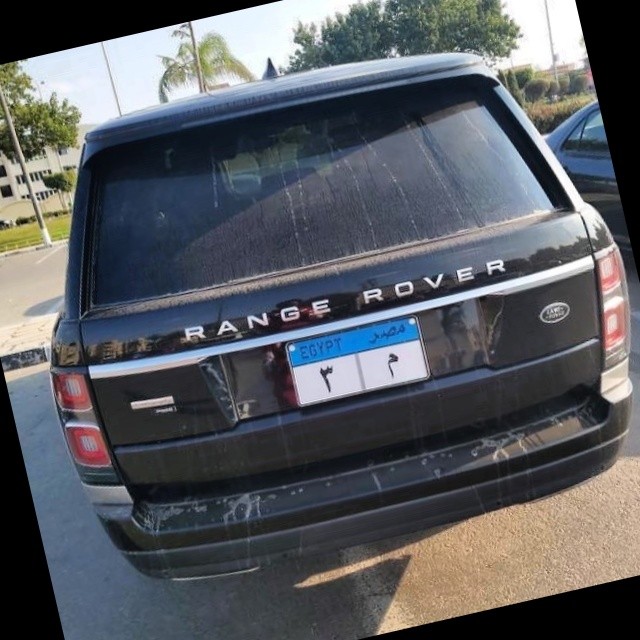License Plate: (280, 310, 431, 410)
